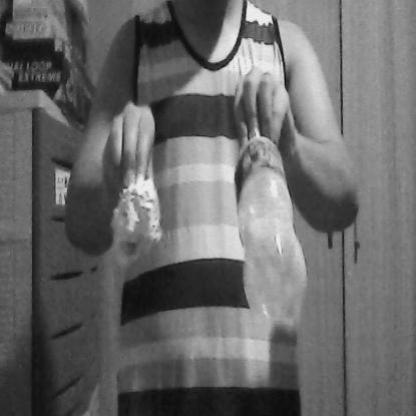Plastic Bottle: (217, 94, 311, 342)
